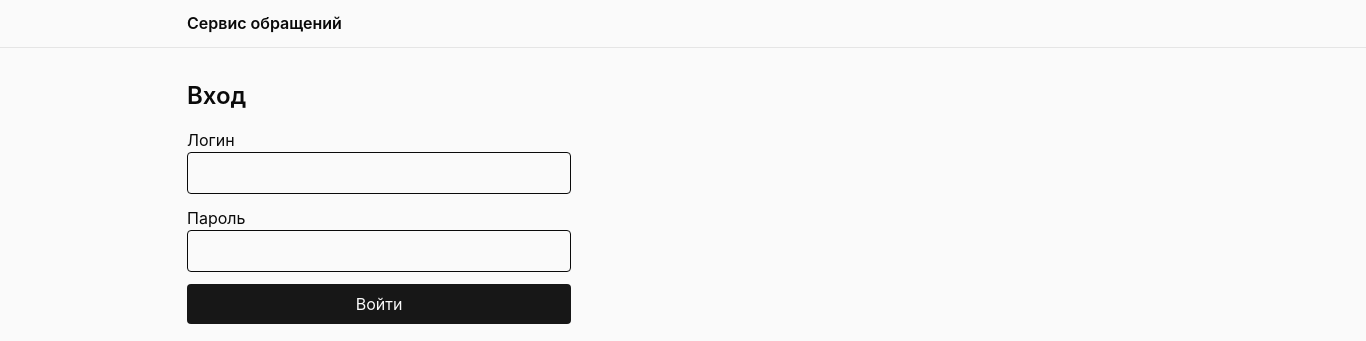
Test case: directs lawyer to its portal after login
The image size is (1366, 341).
In the field labelled "Логин": [379, 173] box [187,152,571,194], type "demo"
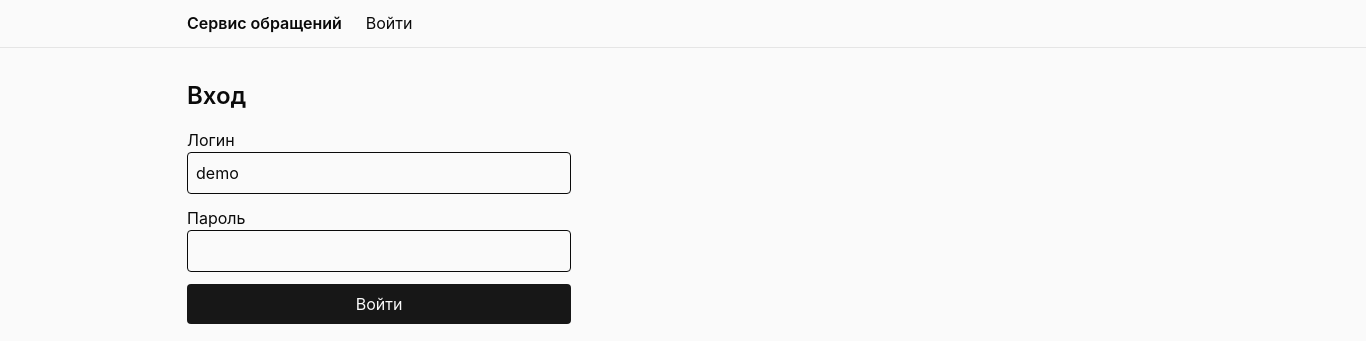
In the password field labelled "Пароль": [379, 251] box [187,230,571,272], type "secret"
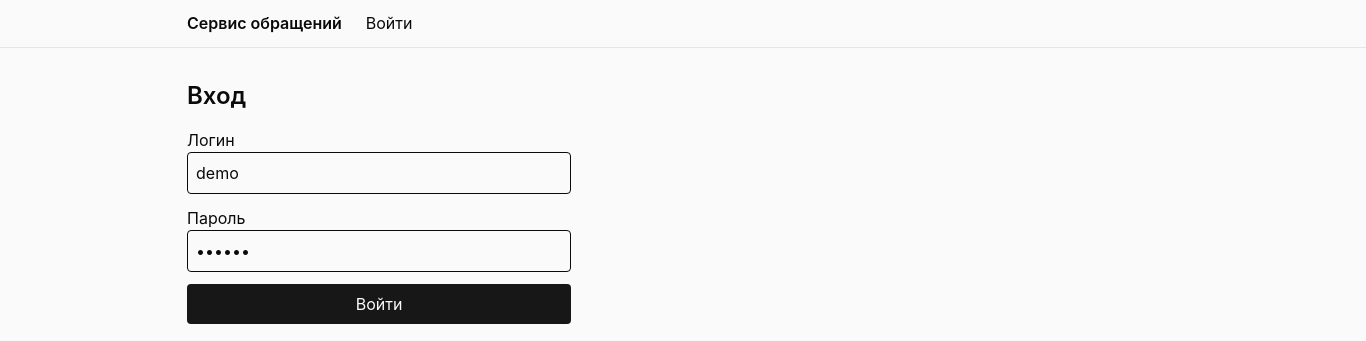
Click the button "Войти": [379, 304] box [187,284,571,324]
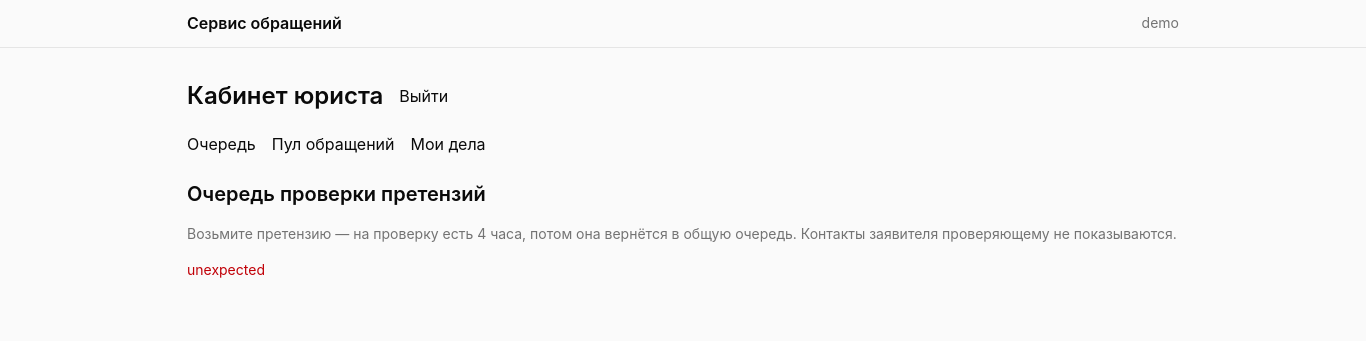
Expected: the heading "Кабинет юриста" is shown, [187,80,383,112]
